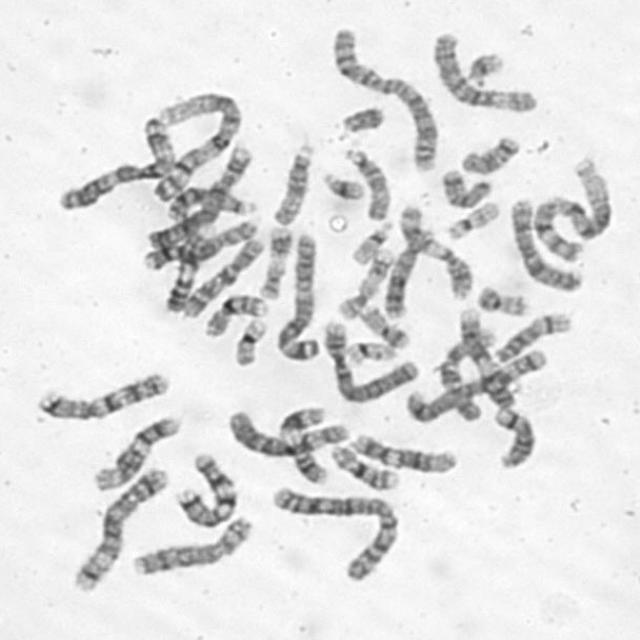A1: (146, 90, 246, 203), (530, 153, 614, 263)
A2: (327, 24, 440, 174), (267, 483, 403, 583)
A3: (55, 113, 180, 213), (278, 232, 330, 361)
B4: (141, 141, 255, 261), (320, 316, 421, 406)
B5: (66, 462, 170, 593), (399, 346, 552, 425)
C10: (178, 232, 265, 318), (438, 330, 502, 420)
C11: (394, 202, 474, 301), (274, 406, 332, 489)
C12: (90, 410, 183, 492), (347, 429, 459, 475)
C6: (429, 28, 540, 112), (224, 406, 348, 458)
C7: (32, 366, 170, 423), (171, 451, 238, 528)
C8: (127, 512, 256, 577), (141, 218, 260, 273)
C9: (455, 304, 517, 410), (162, 222, 221, 314)
D13: (382, 230, 435, 320), (162, 183, 257, 221)
D14: (489, 309, 572, 364), (490, 404, 538, 470)
D15: (267, 138, 317, 228), (341, 144, 392, 222)
E16: (326, 440, 400, 492), (200, 291, 269, 338)
E17: (335, 244, 396, 320), (256, 223, 294, 301)
E18: (456, 132, 522, 177), (439, 165, 493, 210)
F19: (228, 315, 270, 368), (341, 338, 399, 366)
F20: (356, 301, 412, 350), (474, 282, 532, 318)
G21: (319, 168, 366, 202), (462, 49, 505, 85)
G22: (442, 198, 502, 240), (348, 216, 395, 264)
X: (511, 197, 585, 294)
Y: (338, 102, 385, 134)
